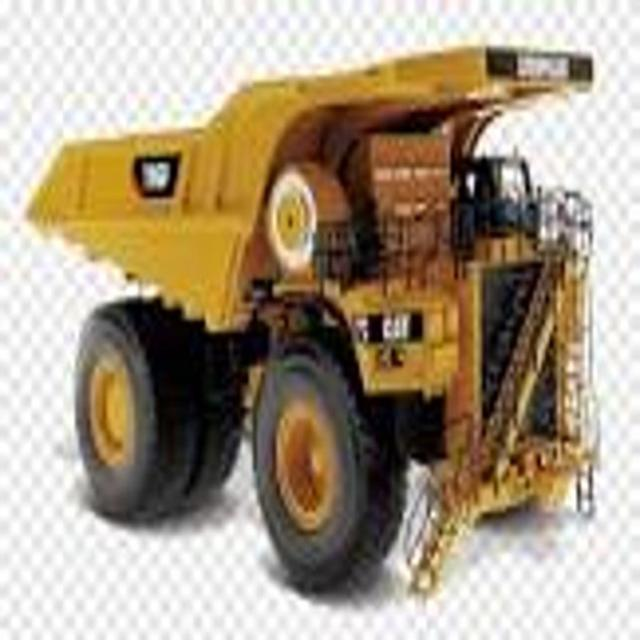dump_truck: (26, 17, 608, 592)
